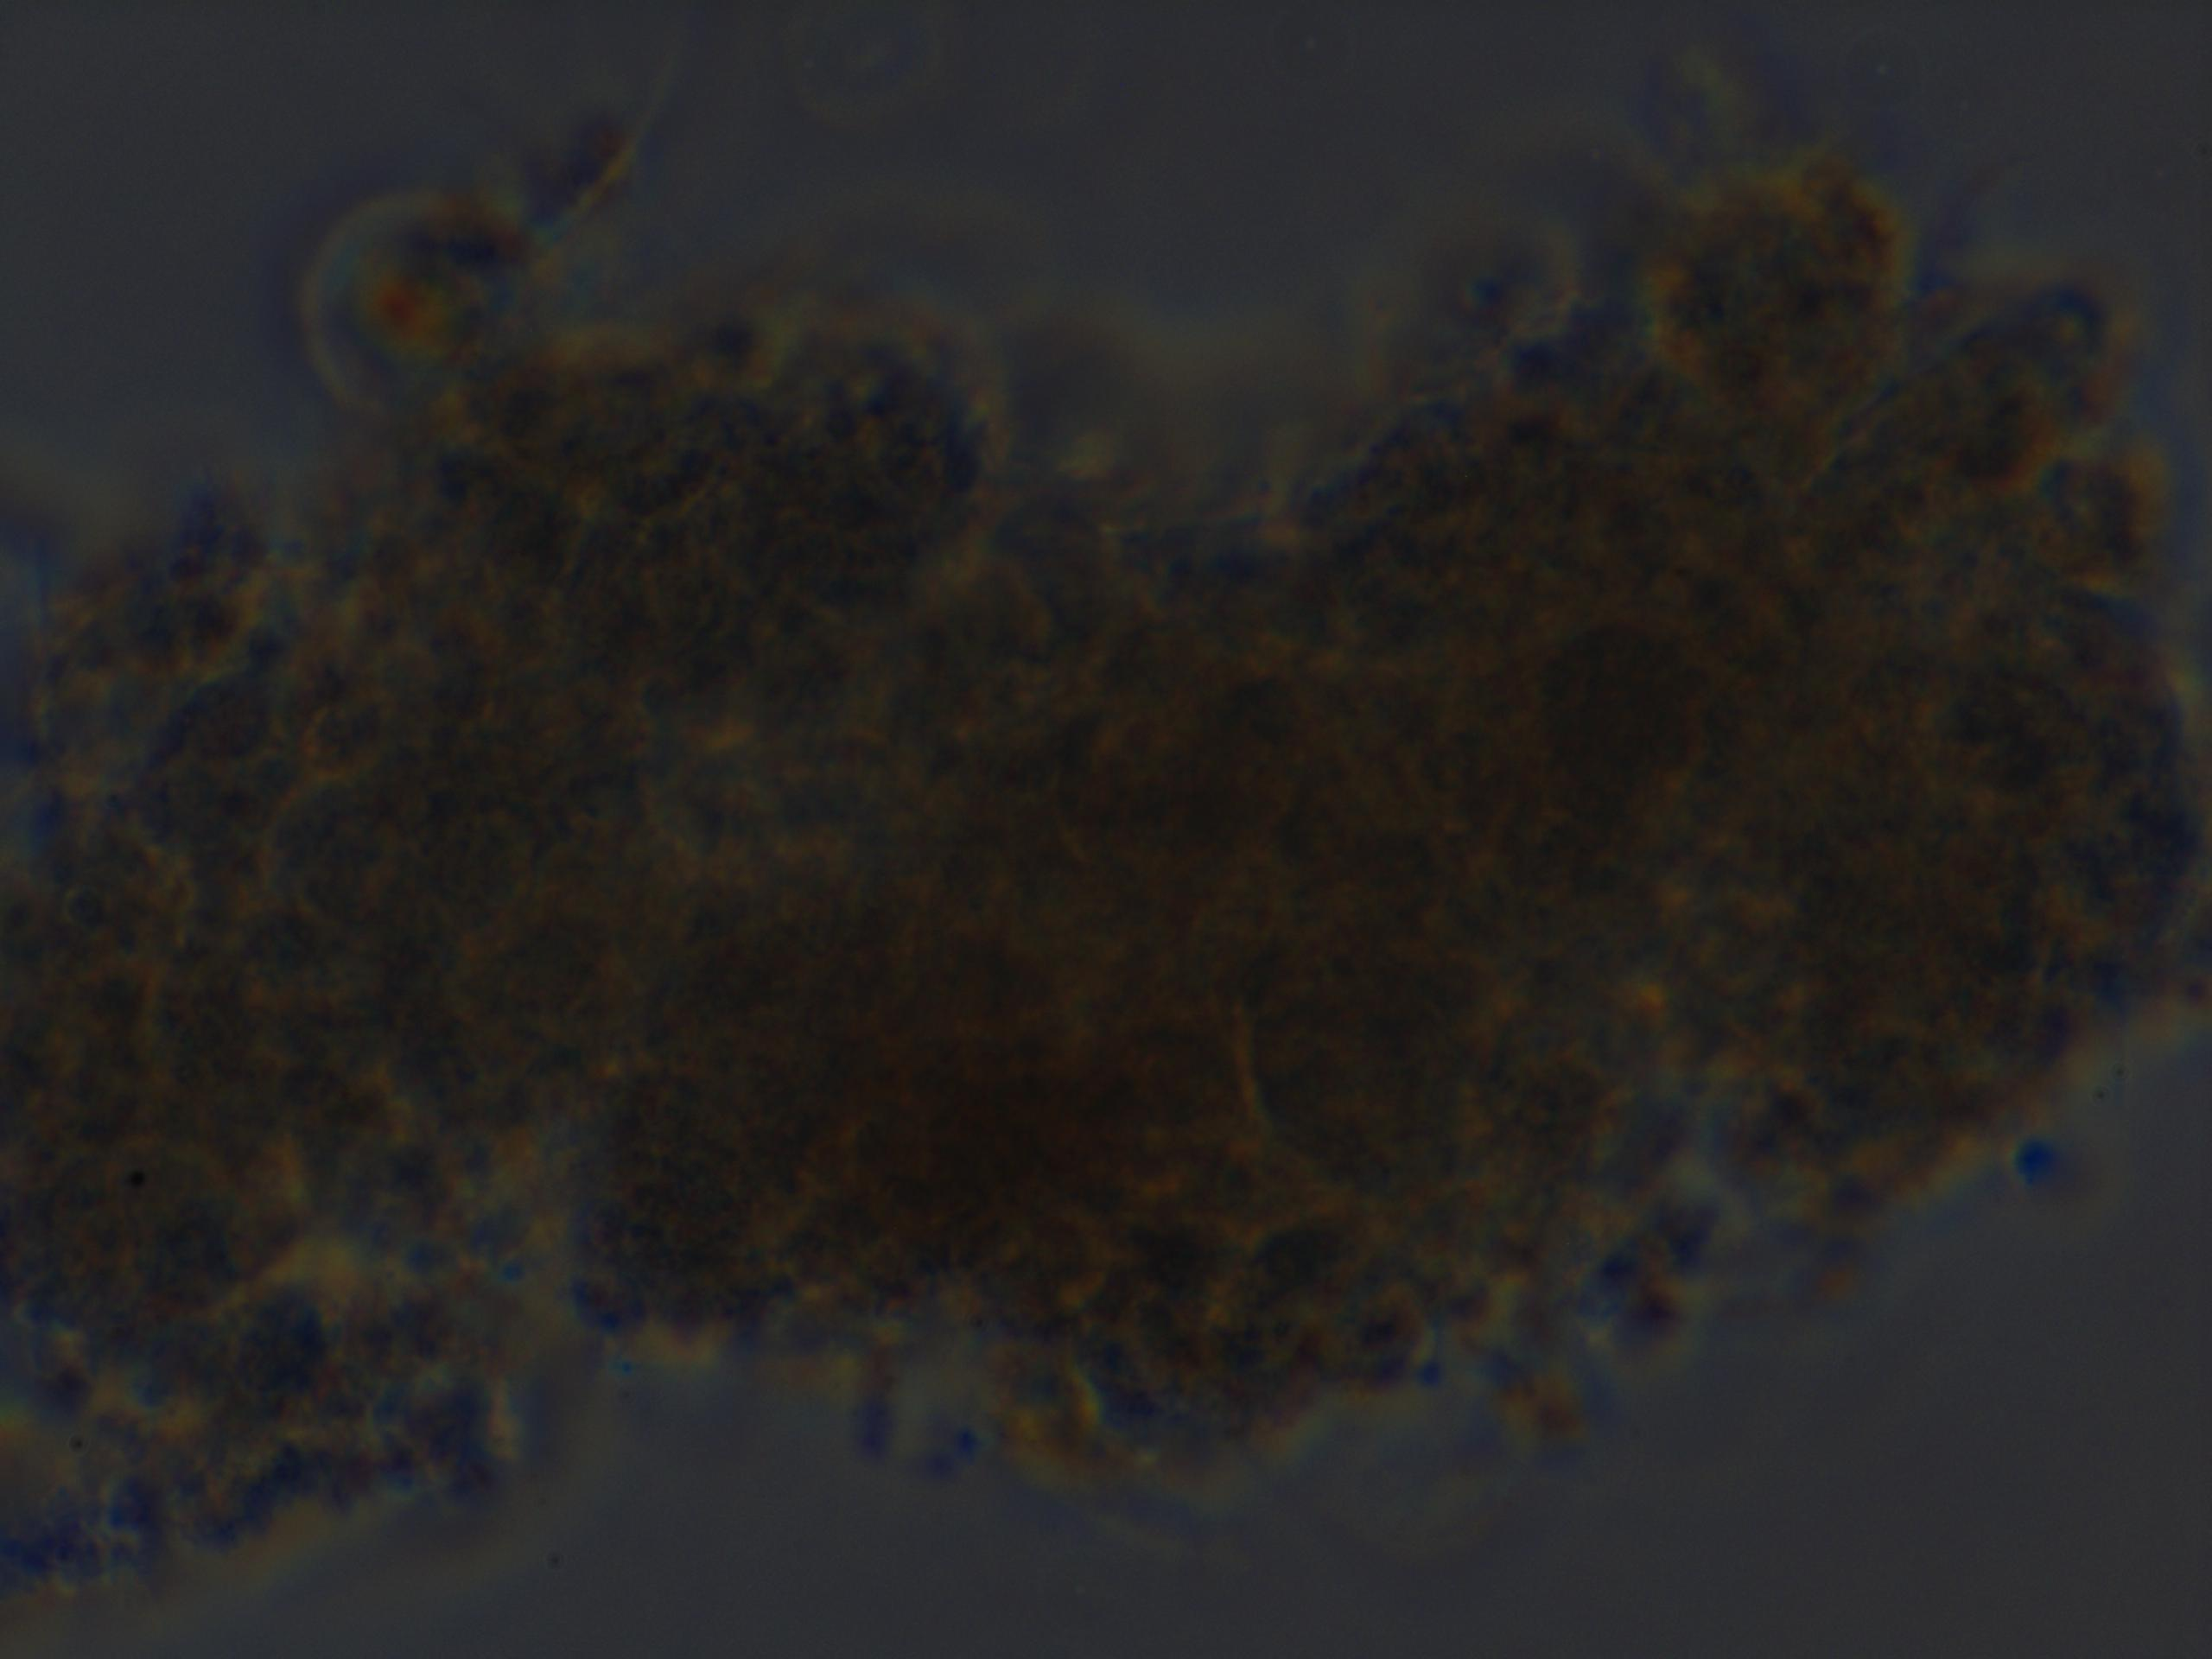spherical_floc: (0, 200, 2188, 1504)
